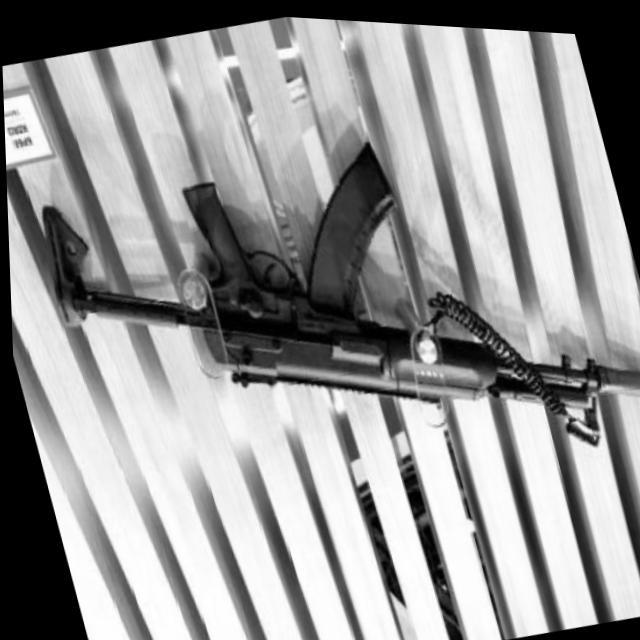weapon: (15, 66, 640, 558)
